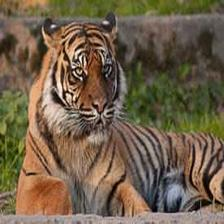tiger: (32, 19, 224, 224)
